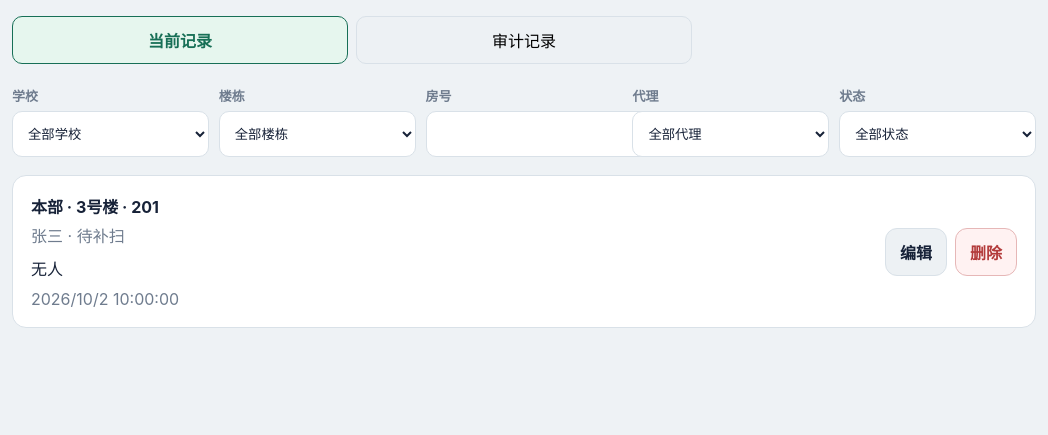
Test case: SweepDataManager › offers five filters and read-only audit snapshots
Expected: the dropdown labelled "学校" is shown, [12,111,209,157]
Expected: the dropdown labelled "楼栋" is shown, [219,111,416,157]
Click the tab "审计记录".
click(524, 40)  # box [356,16,692,64]
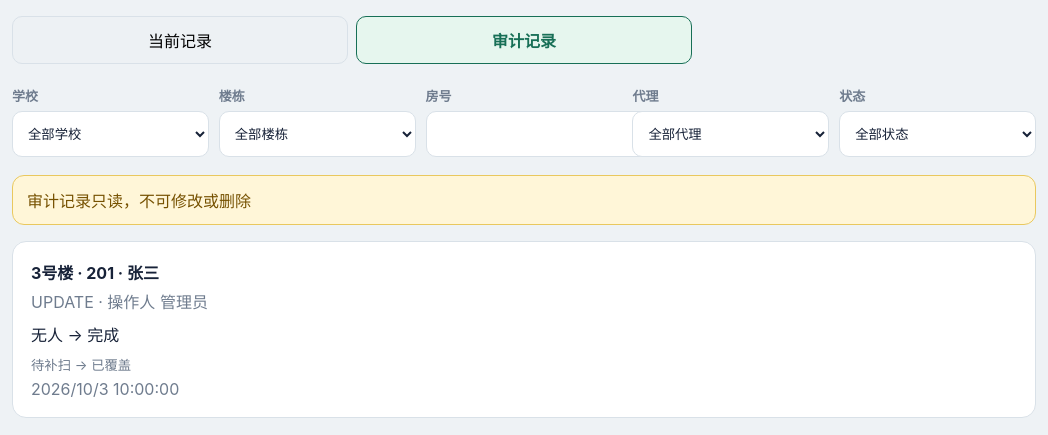
Now the text "无人 → 完成" is shown, box [31,325,119,345]
Now the text "审计记录只读，不可修改或删除" is shown, box [12,175,1036,225]
